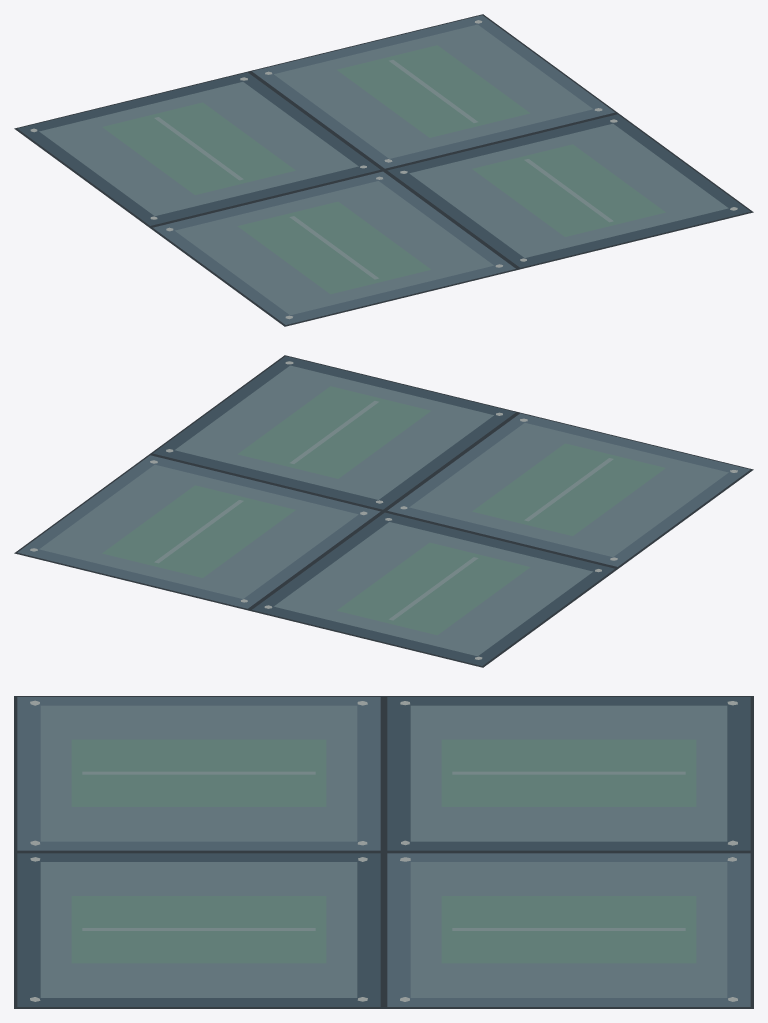
Rendered from 13_Metal_Deck.fbx.
3 views of the same model, one above another, from view 1: azimuth 30°, elevation 25°; view 2: azimuth 150°, elevation 25°; view 3: azimuth 270°, elevation 25° (orthographic). The views are drawn at different scales.
Parts seen in each view (by area): view 1: 13_Metal_Deck; view 2: 13_Metal_Deck; view 3: 13_Metal_Deck.
Boxes of the visible parts, x1,y1,x2,y2 form: 13_Metal_Deck: (14,14,753,326); 13_Metal_Deck: (14,355,753,667); 13_Metal_Deck: (14,696,753,1008).
Bounding box in the file's own units: 800 × 1.4 × 800.
Materials: 1 (1 with a texture image).
